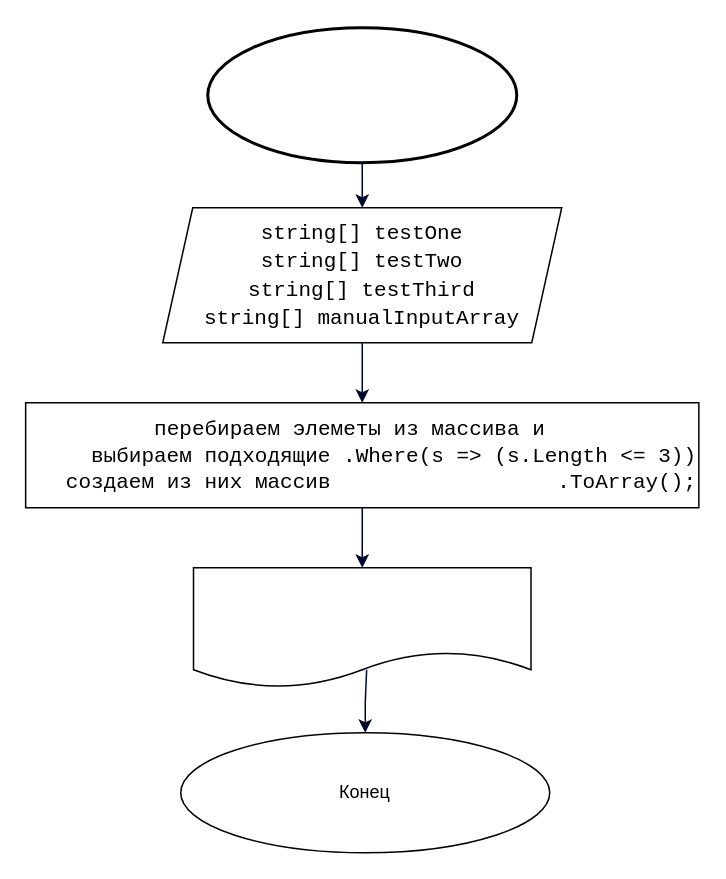
Some shapes in this 726 by 879 pixel diagram are drawn without their labels. The centre of each missing label's shape, as x and y in pixels:
выводим с помощью String . Join (): pixel 361 627
Начало: pixel 362 95
